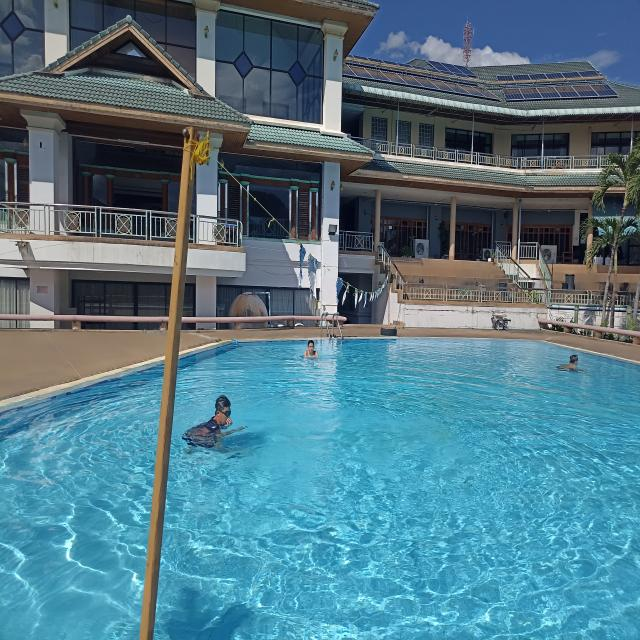Swimming: (177, 396, 250, 449), (554, 350, 588, 374), (300, 338, 322, 363)
